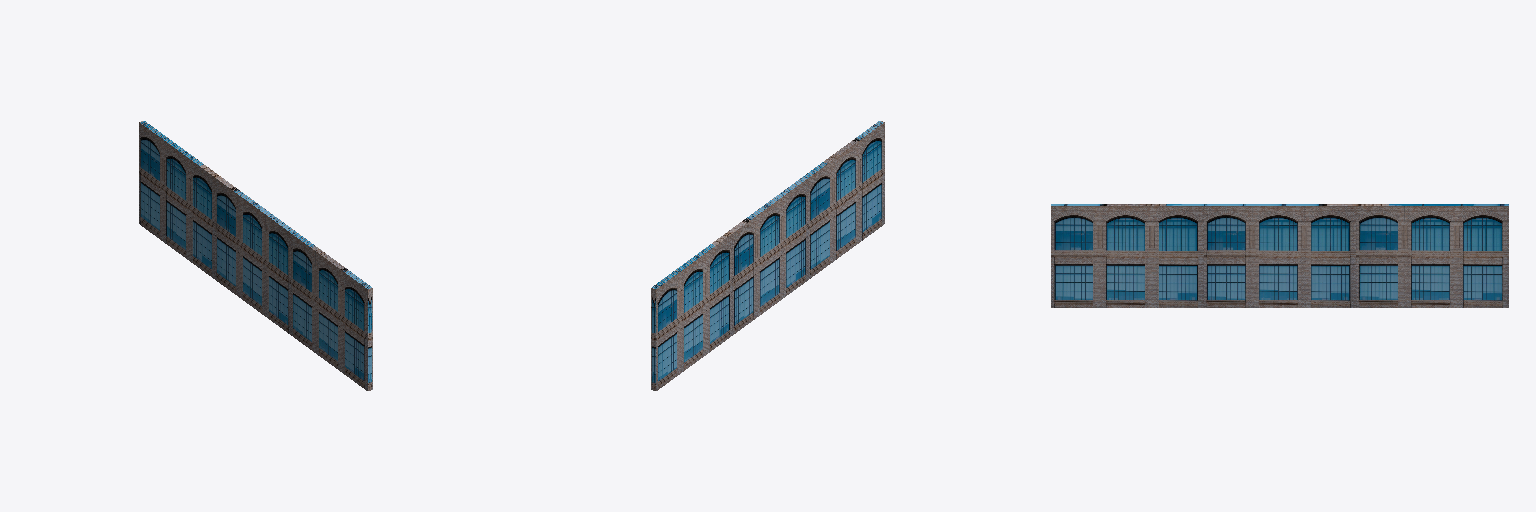
The picture shows the model from 3 angles: view 1: azimuth 30°, elevation 25°; view 2: azimuth 150°, elevation 25°; view 3: azimuth 270°, elevation 25°; orthographic projection.
Visible parts, largest first — view 1: Derecha2; view 2: Derecha2; view 3: Derecha2.
Boxes of the visible parts, x1=… form: Derecha2: x1=139, y1=121, x2=372, y2=390; Derecha2: x1=651, y1=121, x2=884, y2=390; Derecha2: x1=1051, y1=204, x2=1508, y2=307.
Bounding box in the file's own units: 10.73 × 191 × 776.
1 materials, 1 textured.